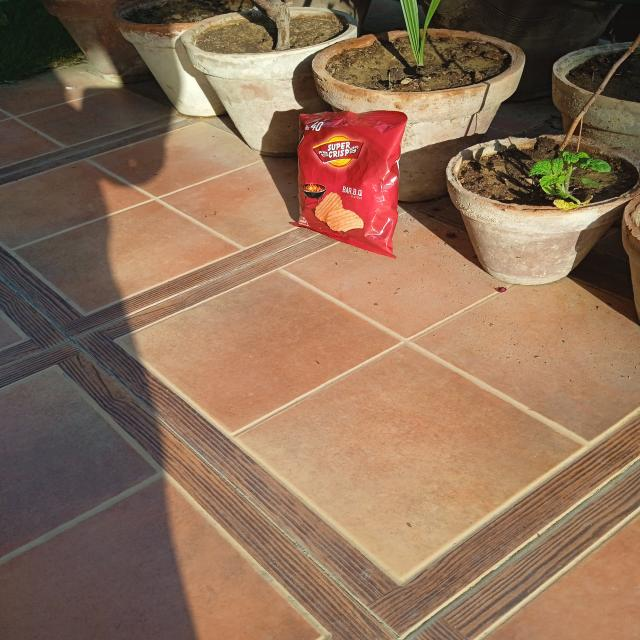Plastic: (298, 112, 404, 251)
